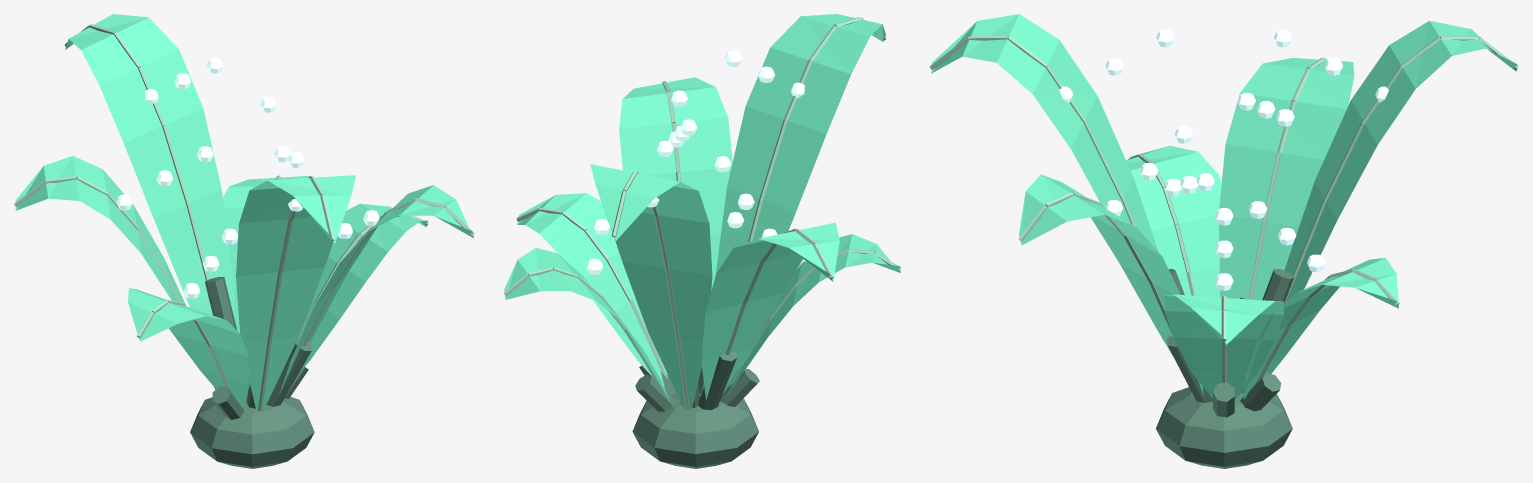
Rendered from glowfern-mature.glb.
The picture shows the model from 3 angles, left to right: view 1: azimuth 30°, elevation 25°; view 2: azimuth 150°, elevation 25°; view 3: azimuth 270°, elevation 25°; orthographic projection. The views are drawn at different scales.
Parts seen in each view (by area): view 1: glowfern.sway-pivot; view 2: glowfern.sway-pivot; view 3: glowfern.sway-pivot.
Boxes of the visible parts, bbox=[...] form: glowfern.sway-pivot: bbox=[14, 14, 474, 468]; glowfern.sway-pivot: bbox=[503, 14, 901, 468]; glowfern.sway-pivot: bbox=[930, 14, 1518, 468].
Size of the model in its own units: 1.06 by 1.07 by 1.35.
